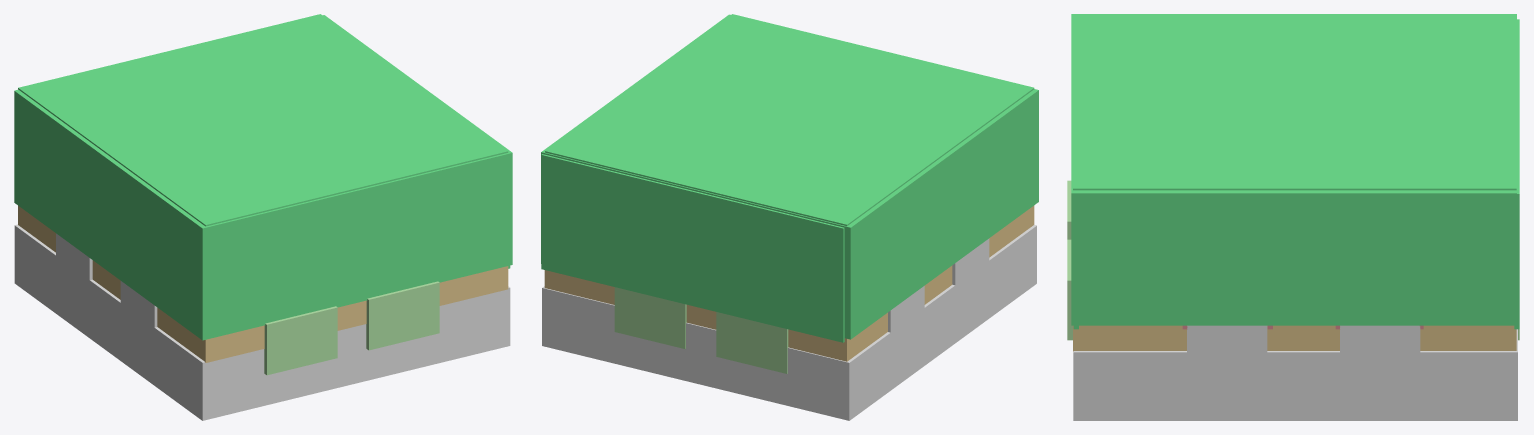
File: finfet_gate.glb
The picture shows the model from 3 angles, left to right: view 1: azimuth 30°, elevation 25°; view 2: azimuth 150°, elevation 25°; view 3: azimuth 270°, elevation 25°; orthographic projection. The views are drawn at different scales.
Parts seen in each view (by area): view 1: Cube.019, Cube.016, Cube, Cube.006, Cube.014, Cube.015, Cube.002, Cube.001; view 2: Cube.016, Cube.018, Cube, Cube.019, Cube.006, Cube.015, Cube.014, Cube.002, Cube.001; view 3: Cube.016, Cube.019, Cube, Cube.006, Cube.002, Cube.001, Cube.018, Cube.014.
Part boxes in pixels (<box>): Cube.019: <box>14,15,512,340</box>; Cube.016: <box>18,14,508,226</box>; Cube: <box>14,224,510,420</box>; Cube.006: <box>18,205,508,362</box>; Cube.014: <box>366,281,439,350</box>; Cube.015: <box>264,306,337,375</box>; Cube.002: <box>56,233,92,281</box>; Cube.001: <box>120,281,157,330</box>; Cube.016: <box>545,14,1034,225</box>; Cube.018: <box>541,154,844,342</box>; Cube: <box>542,225,1036,420</box>; Cube.019: <box>541,14,1038,339</box>; Cube.006: <box>544,205,1034,361</box>; Cube.015: <box>716,312,788,373</box>; Cube.014: <box>614,287,686,348</box>; Cube.002: <box>888,286,924,339</box>; Cube.001: <box>952,238,989,287</box>; Cube.016: <box>1073,14,1516,190</box>; Cube.019: <box>1071,14,1516,325</box>; Cube: <box>1073,329,1517,420</box>; Cube.006: <box>1073,325,1516,351</box>; Cube.002: <box>1340,325,1420,361</box>; Cube.001: <box>1187,325,1267,355</box>; Cube.018: <box>1514,19,1519,329</box>; Cube.014: <box>1067,239,1519,340</box>.
Bounding box in the file's own units: 2.22 × 1.33 × 2.37.
